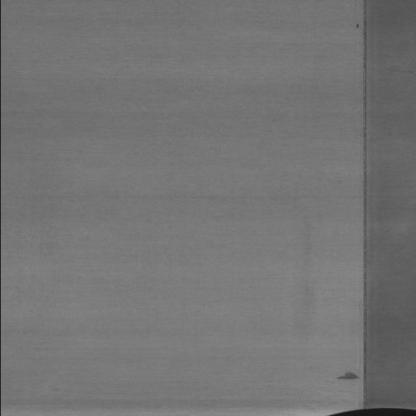crescent_gap: (314, 406, 416, 416)
oil_spot: (334, 370, 358, 383)
welding_line: (352, 0, 380, 411)
